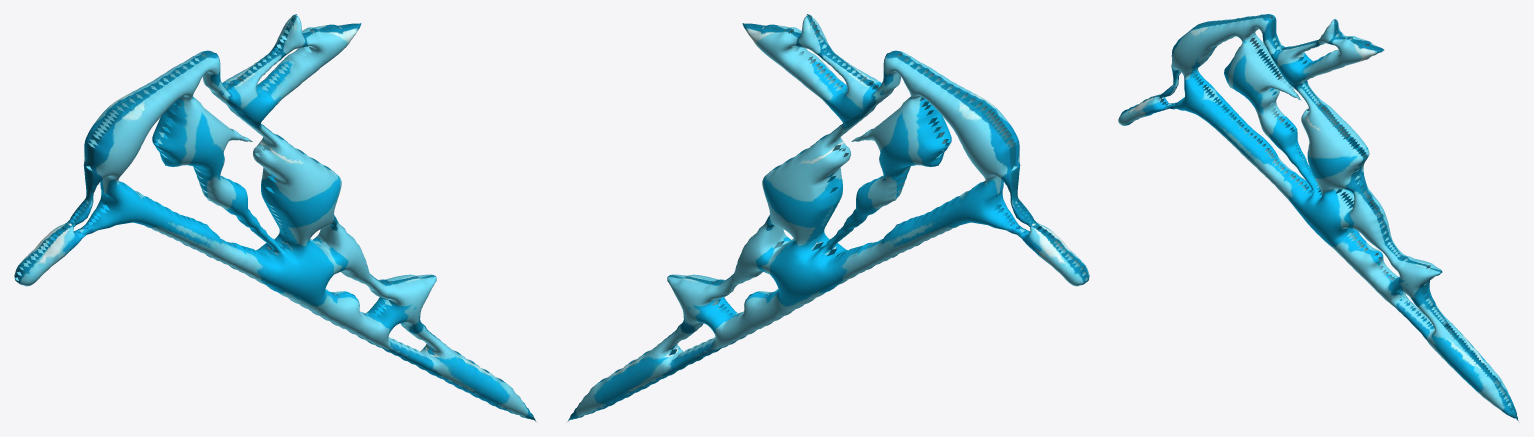
The model's file is ice_spear.glb.
3 renders of one model, left to right at view 1: azimuth 30°, elevation 25°; view 2: azimuth 150°, elevation 25°; view 3: azimuth 330°, elevation 25°, orthographic. The views are drawn at different scales.
Visible parts, largest first — view 1: ice_spear; view 2: ice_spear; view 3: ice_spear.
Part boxes in pixels (<box>): ice_spear: <box>14,14,537,422</box>; ice_spear: <box>566,14,1089,422</box>; ice_spear: <box>1118,14,1519,422</box>.
Size of the model in its own units: 0.984 by 0.8433 by 0.1253.
1 material, 1 textured.
